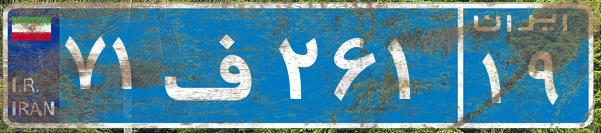1: (385, 28, 445, 110), (475, 38, 525, 113), (110, 28, 158, 105)
2: (273, 28, 330, 110)
6: (330, 28, 385, 110)
7: (57, 26, 110, 107)
9: (525, 38, 570, 115)
ف: (158, 15, 273, 115)
